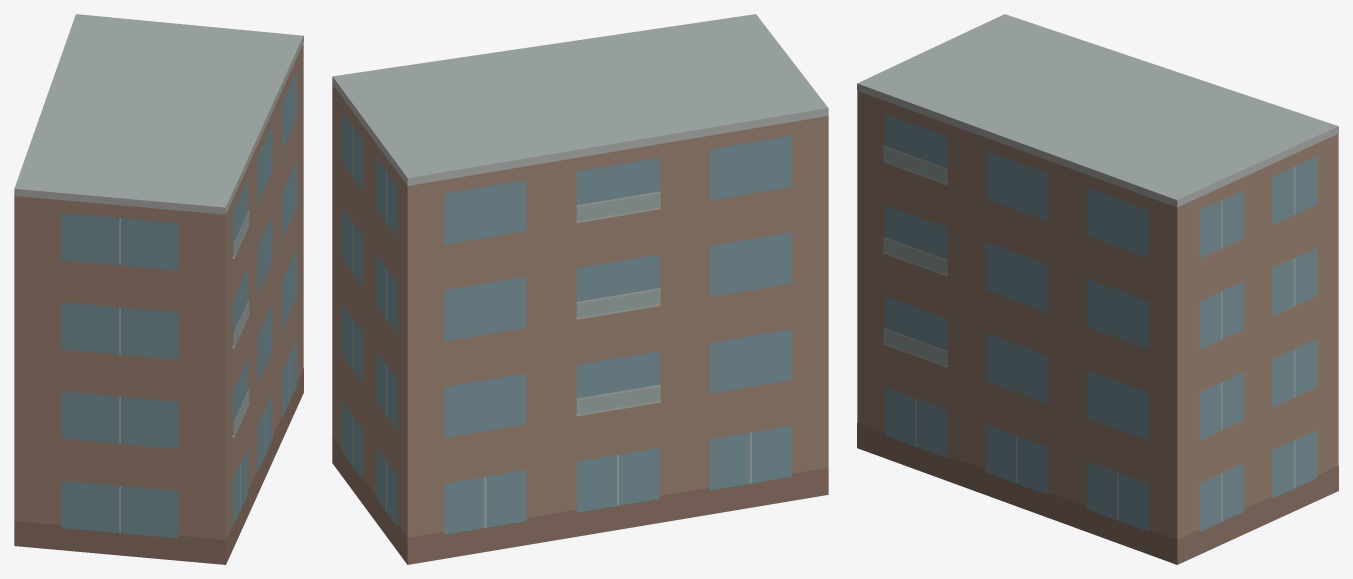
The model's file is residential-d57f5929-dfa7-4133-8e53-cded41b9c4e0.glb.
The picture shows the model from 3 angles, left to right: view 1: azimuth 30°, elevation 25°; view 2: azimuth 150°, elevation 25°; view 3: azimuth 270°, elevation 25°; orthographic projection. The views are drawn at different scales.
Visible parts, largest first — view 1: residential-d57f5929-dfa7-4133-8e53-cded41b9c4e0.tmp; view 2: residential-d57f5929-dfa7-4133-8e53-cded41b9c4e0.tmp; view 3: residential-d57f5929-dfa7-4133-8e53-cded41b9c4e0.tmp.
Part boxes in pixels (bbox=[...]): residential-d57f5929-dfa7-4133-8e53-cded41b9c4e0.tmp: bbox=[14, 14, 303, 564]; residential-d57f5929-dfa7-4133-8e53-cded41b9c4e0.tmp: bbox=[332, 14, 828, 564]; residential-d57f5929-dfa7-4133-8e53-cded41b9c4e0.tmp: bbox=[857, 14, 1338, 564].
Bounding box in the file's own units: 13.37 × 12.2 × 14.61.
